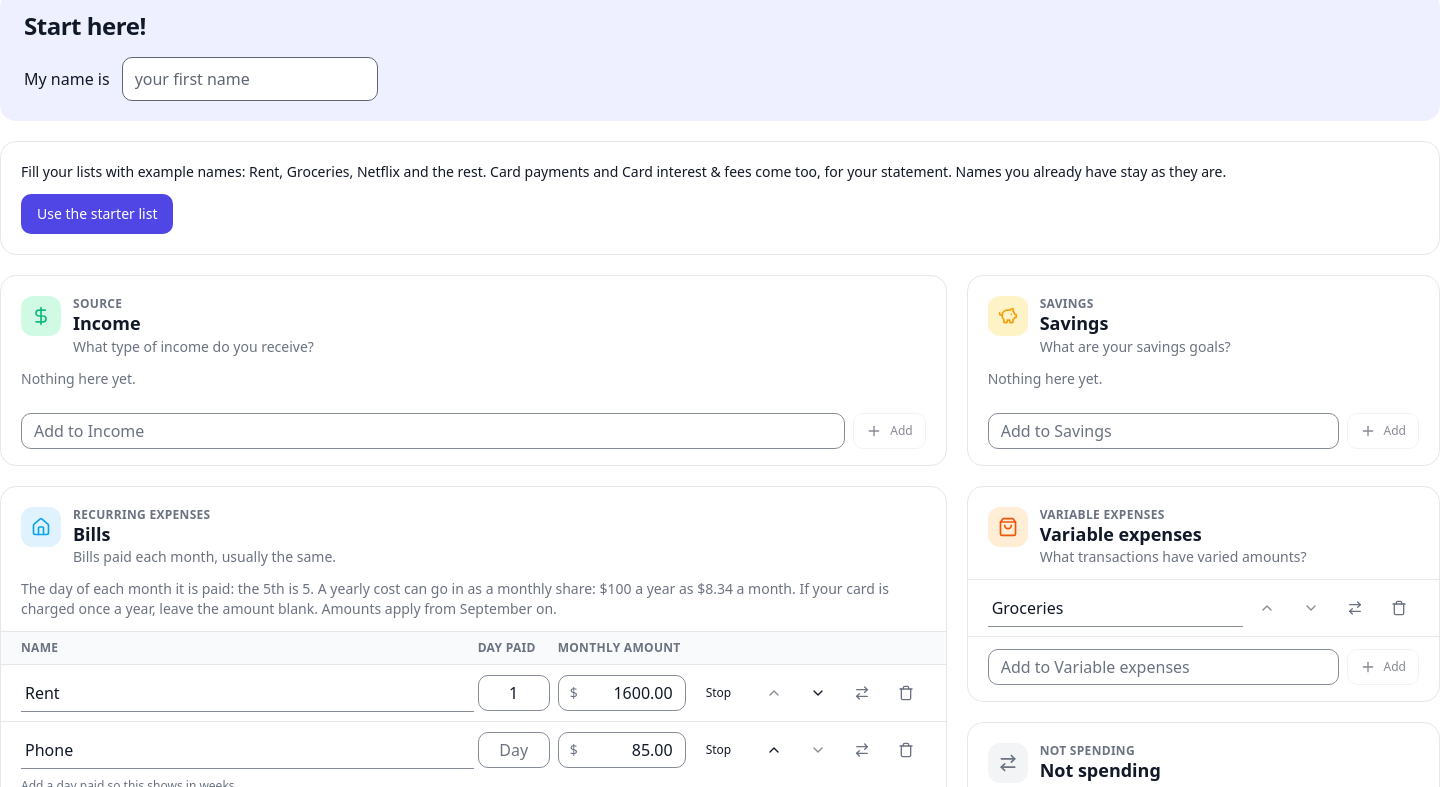
it: Lists, day paid and monthly amount › saves a day paid from this month on, keeping the amount
The image size is (1440, 787).
Expected: the field named "Monthly amount for Phone, from September on" holds "85.00", 558,732 -> 686,768
In the field named "Day paid for Phone": (514, 750) 478,732 -> 550,768, type "12"
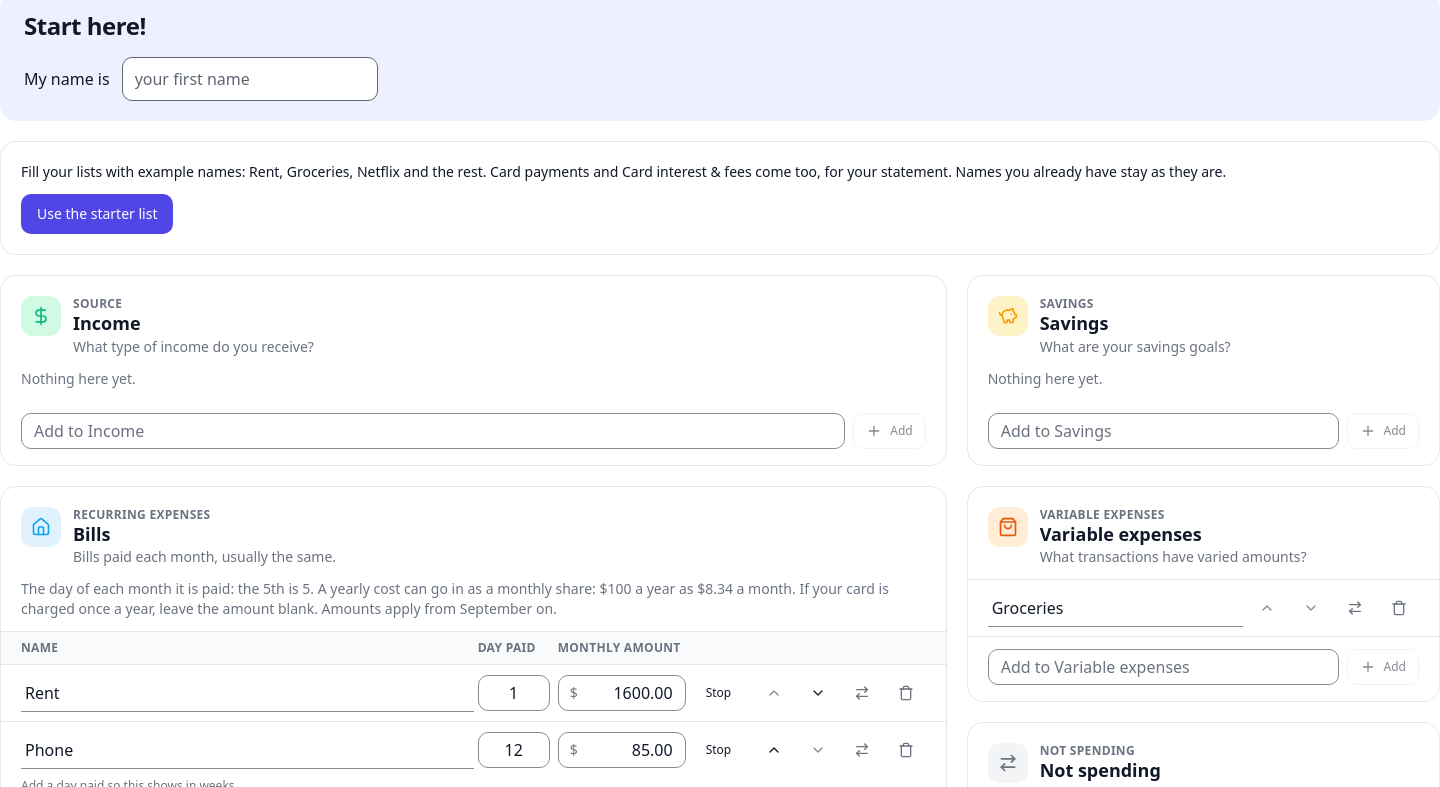
Leave the field named "Day paid for Phone", box 478,732 -> 550,768
(page scrolled)
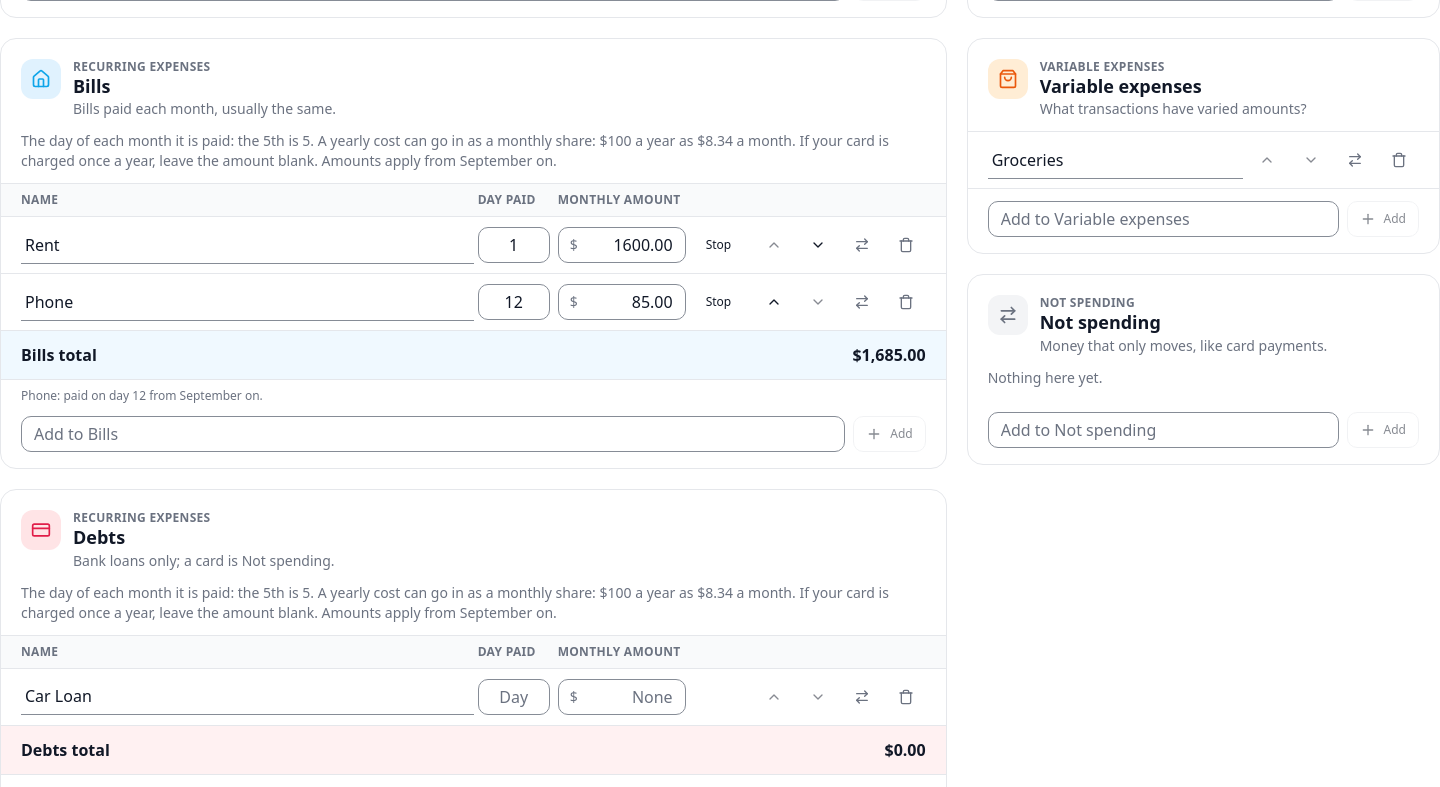
Expected: the text "Phone: paid on day 12 from September on." is shown, 21,387 -> 263,404
